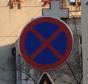No Parking: (21, 17, 74, 70)
